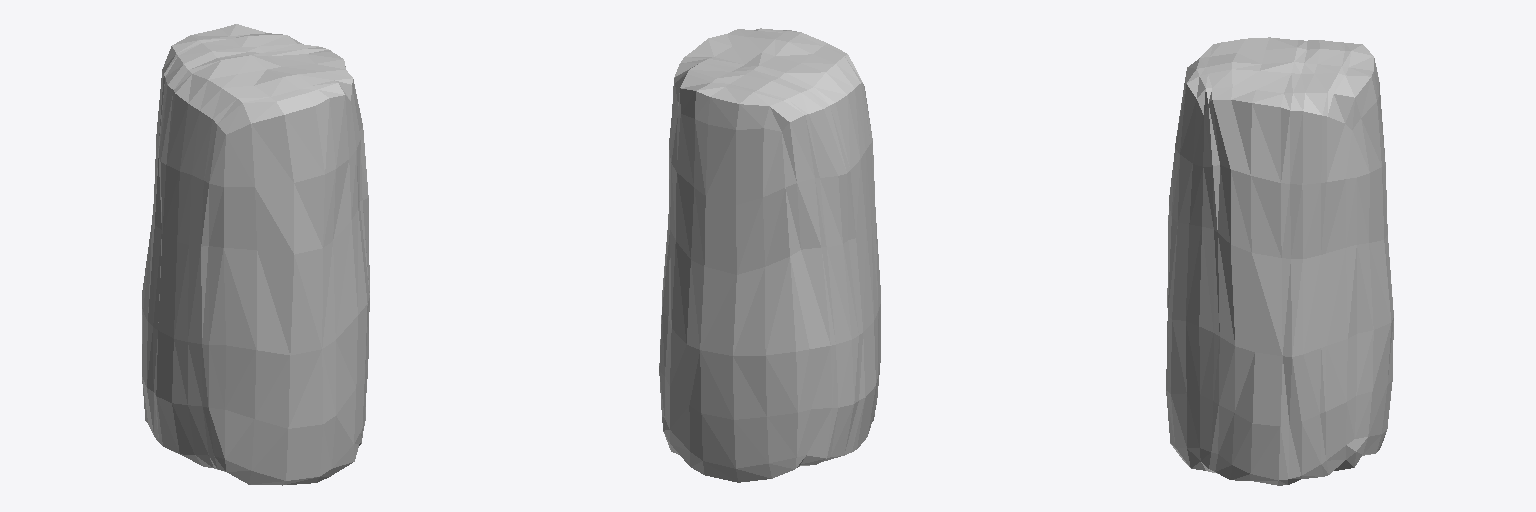
Rendered from treebranch.obj.
3 renders of one model, left to right at view 1: azimuth 30°, elevation 25°; view 2: azimuth 150°, elevation 25°; view 3: azimuth 270°, elevation 25°, orthographic.
Parts seen in each view (by area): view 1: kutuks:cube_5; view 2: kutuks:cube_5; view 3: kutuks:cube_5.
Boxes of the visible parts, x1=… form: kutuks:cube_5: x1=142, y1=24, x2=369, y2=485; kutuks:cube_5: x1=659, y1=28, x2=880, y2=482; kutuks:cube_5: x1=1166, y1=37, x2=1393, y2=485.
Size of the model in its own units: 3.6 by 6.84 by 3.61.